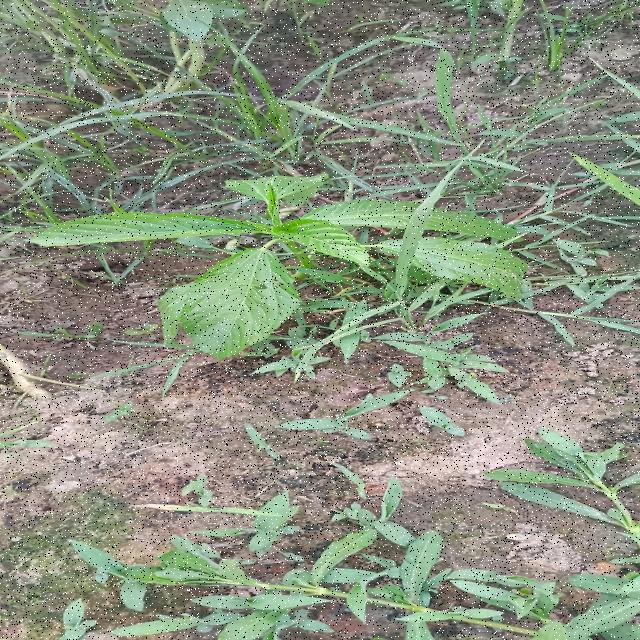plant: (31, 175, 529, 297), (160, 244, 302, 359)
